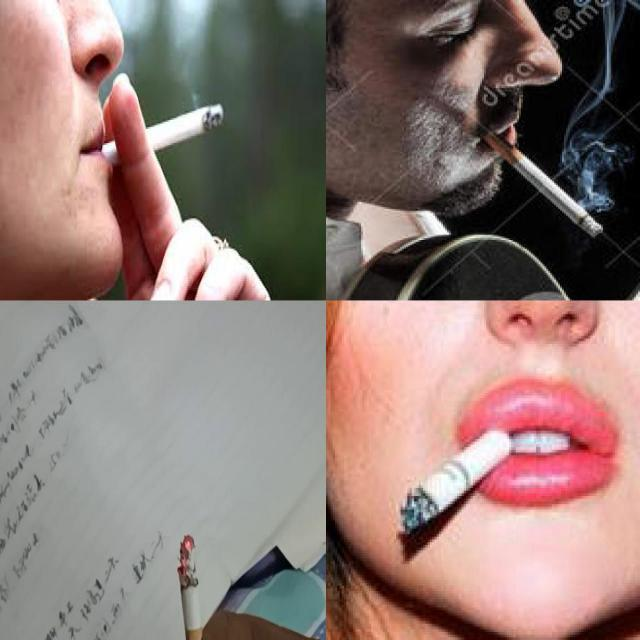cigarette: (481, 130, 605, 240), (400, 430, 512, 532), (89, 104, 225, 172), (178, 533, 208, 639)
